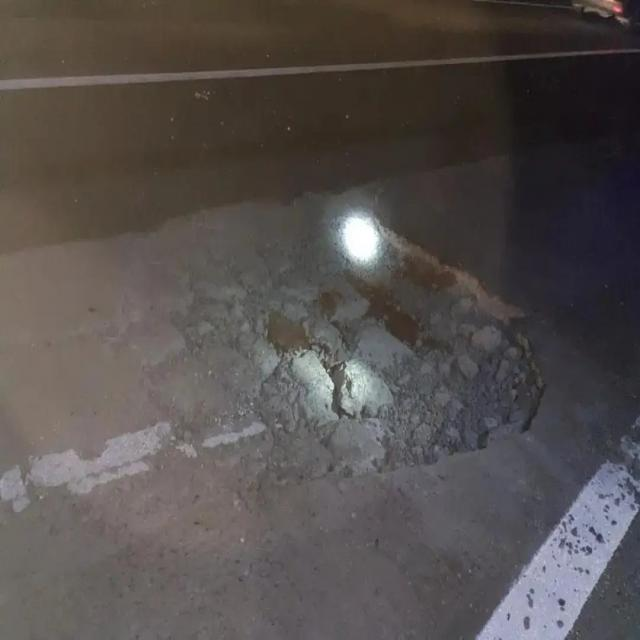Pothole: (217, 209, 544, 470)
